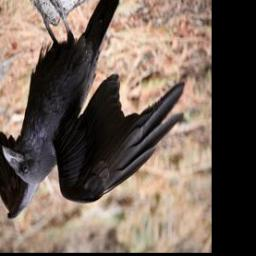Crow: (0, 0, 188, 222)
